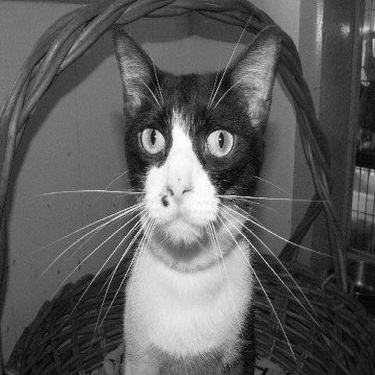cat: (63, 21, 292, 367)
